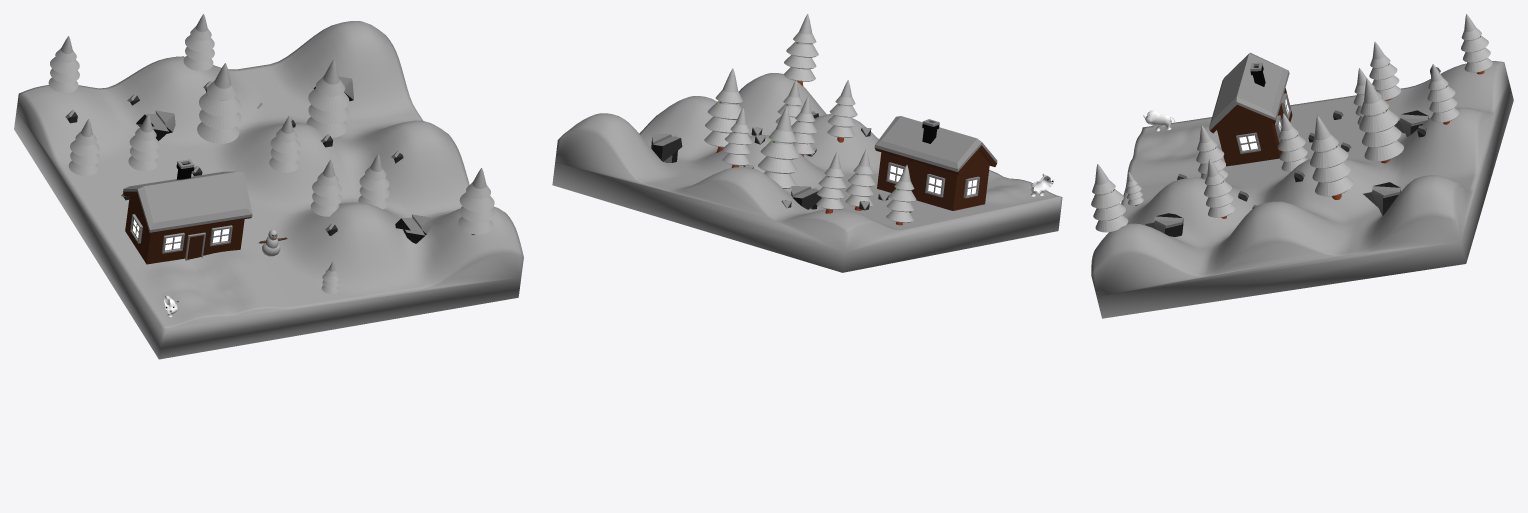
The model's file is House3.gltf.
The picture shows the model from 3 angles, left to right: view 1: azimuth 30°, elevation 25°; view 2: azimuth 150°, elevation 25°; view 3: azimuth 270°, elevation 25°; orthographic projection. The views are drawn at different scales.
Visible parts, largest first — view 1: Sol, Cube, Arbre.004, Arbre.006, Arbre.008, Arbre.009, Arbre.010, Arbre, Arbre.003, Arbre.007, Arbre.001, Arbre.002 (+2 smaller); view 2: Sol, Cube, Arbre.004, Arbre.006, Arbre.008, Arbre.001, Arbre, Arbre.003, Arbre.007, Arbre.009, Arbre.010, rock.001; view 3: Sol, Cube, Arbre.004, Arbre.006, Arbre.008, Arbre, Arbre.003, Arbre.002, Arbre.007, Arbre.010, Arbre.001, rock.001 (+2 smaller).
Boxes of the visible parts, bbox=[...] form: Sol: bbox=[14, 21, 523, 359]; Cube: bbox=[123, 159, 252, 264]; Arbre.004: bbox=[197, 63, 241, 143]; Arbre.006: bbox=[306, 59, 349, 137]; Arbre.008: bbox=[458, 168, 494, 234]; Arbre.009: bbox=[128, 114, 159, 171]; Arbre.010: bbox=[269, 115, 300, 172]; Arbre: bbox=[48, 36, 79, 92]; Arbre.003: bbox=[183, 14, 214, 70]; Arbre.007: bbox=[68, 119, 99, 175]; Arbre.001: bbox=[310, 159, 341, 216]; Arbre.002: bbox=[358, 154, 389, 209]; Sol: bbox=[552, 73, 1062, 272]; Cube: bbox=[874, 116, 997, 210]; Arbre.004: bbox=[758, 107, 799, 188]; Arbre.006: bbox=[704, 68, 745, 152]; Arbre.008: bbox=[783, 14, 818, 85]; Arbre.001: bbox=[827, 80, 857, 142]; Arbre: bbox=[816, 152, 846, 213]; Arbre.003: bbox=[722, 107, 752, 167]; Arbre.007: bbox=[886, 165, 916, 225]; Arbre.009: bbox=[845, 149, 875, 210]; Arbre.010: bbox=[791, 97, 817, 156]; rock.001: bbox=[651, 133, 682, 162]; Sol: bbox=[1091, 61, 1513, 318]; Cube: bbox=[1209, 52, 1292, 166]; Arbre.004: bbox=[1359, 78, 1403, 163]; Arbre.006: bbox=[1310, 115, 1353, 199]; Arbre.008: bbox=[1091, 164, 1128, 232]; Arbre: bbox=[1461, 14, 1492, 74]; Arbre.003: bbox=[1427, 64, 1459, 124]; Arbre.002: bbox=[1204, 159, 1235, 218]; Arbre.007: bbox=[1369, 41, 1401, 100]; Arbre.010: bbox=[1277, 113, 1307, 171]; Arbre.001: bbox=[1196, 125, 1227, 179]; rock.001: bbox=[1363, 182, 1400, 216].
Bounding box in the file's own units: 57.53 × 59.55 × 57.7.
